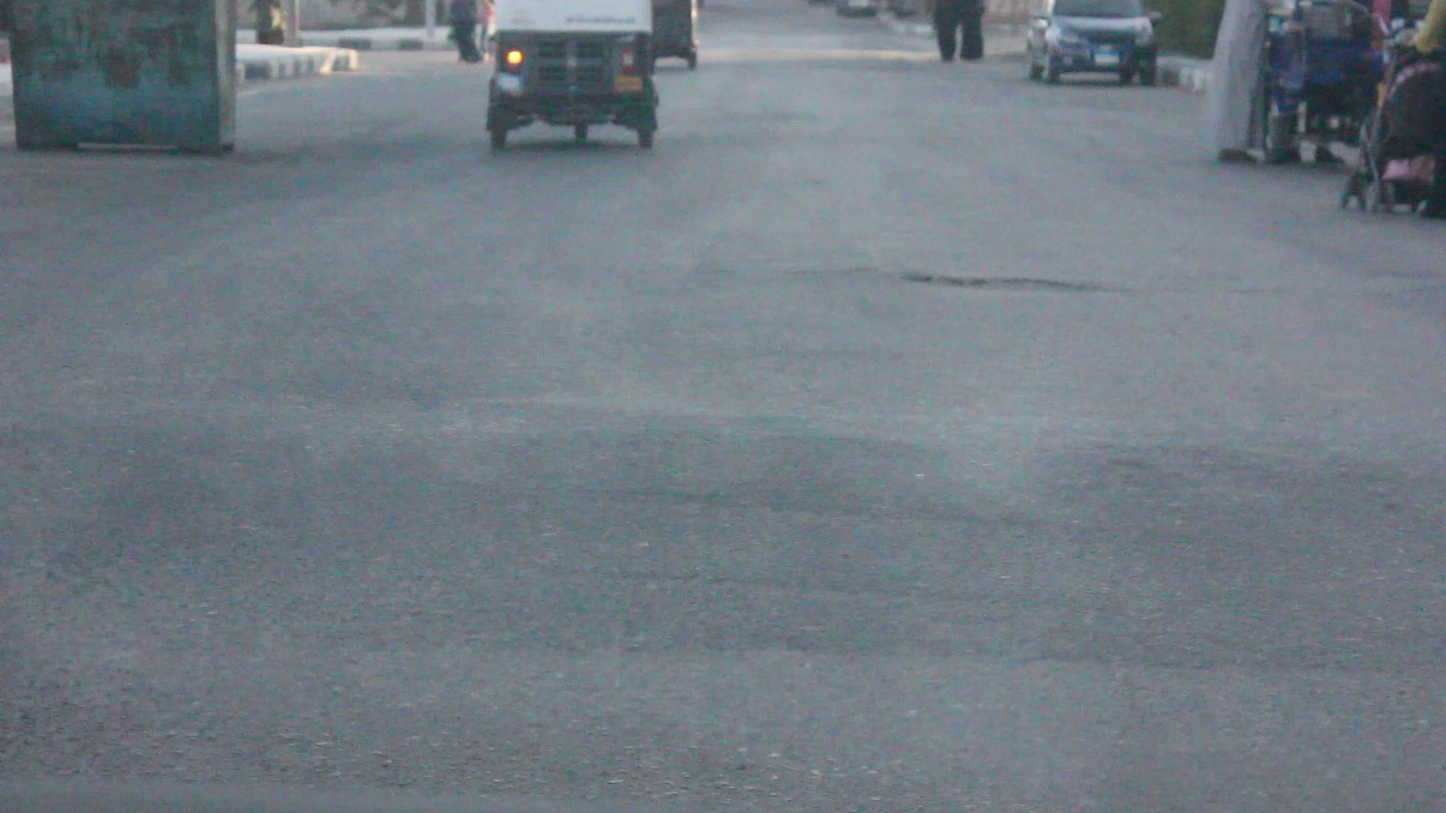Bump: (4, 384, 1446, 678)
Pothole: (902, 248, 1126, 311)
